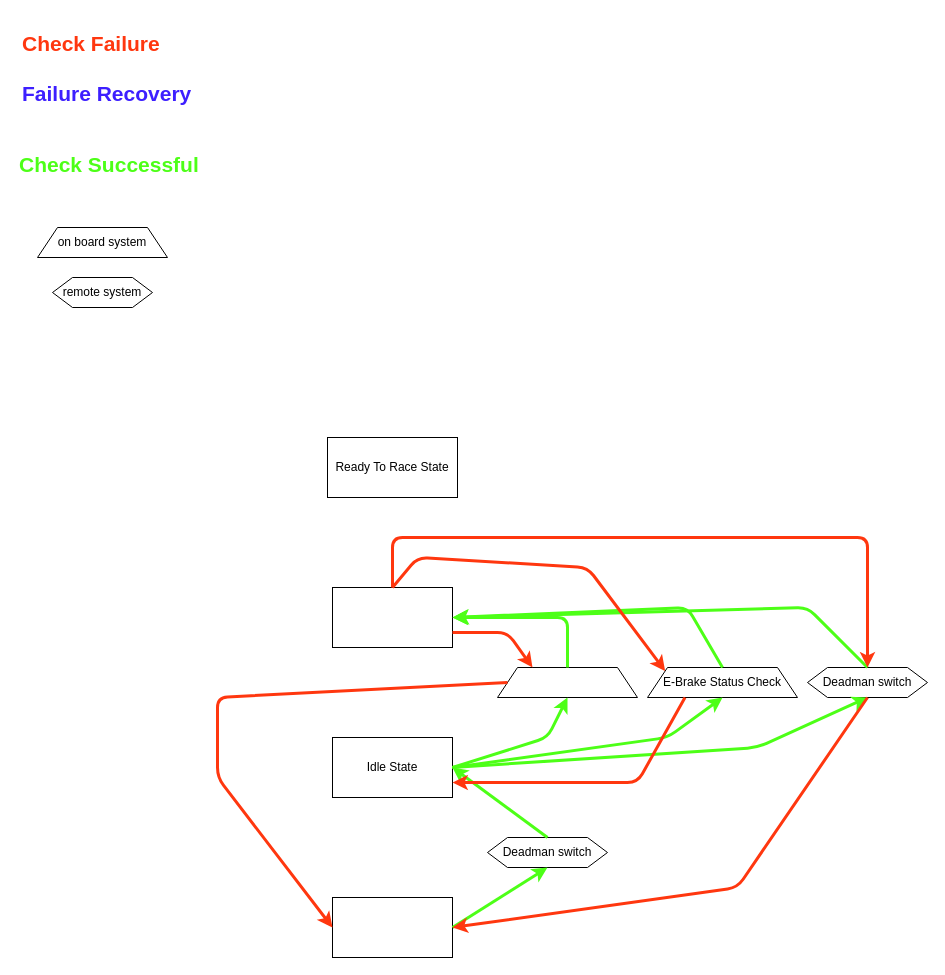
Some shapes in this 945 by 975 pixel diagram are drawn without their labels. The shapes that lost their labels are listed below. From the top down, each one's centre as x and y in pixels, then its label:
At point 392,617: "Ready to Control State".
At point 567,682: "Odrive Status Check".
At point 392,927: "Emergency State".
